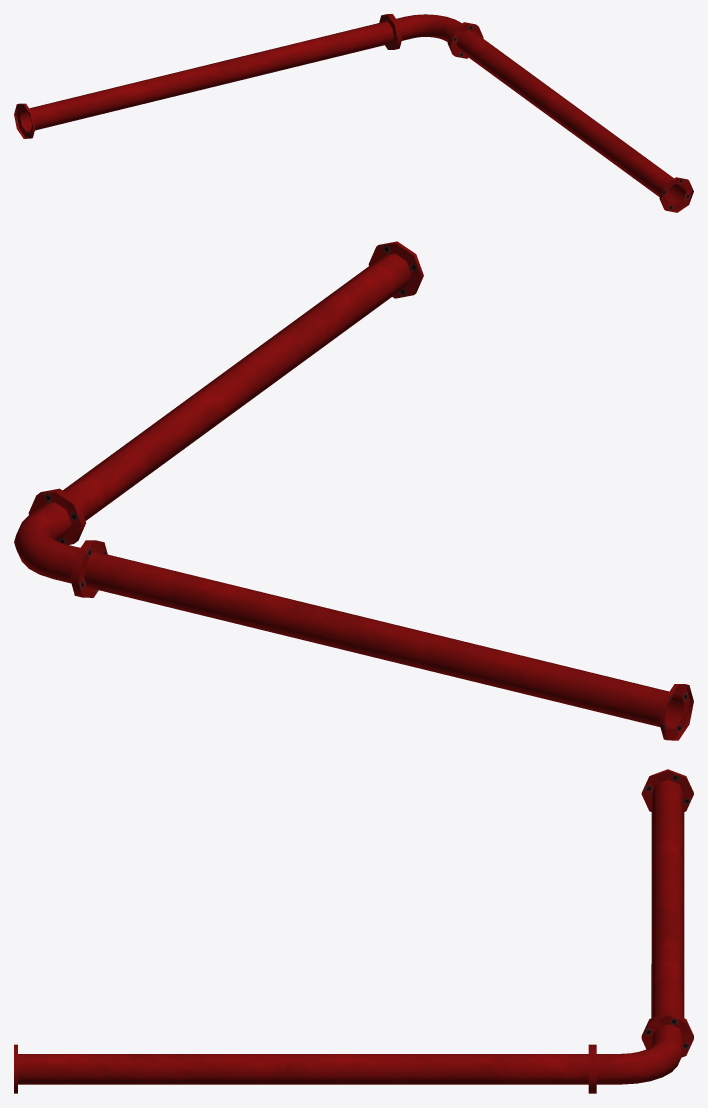
File: PipeSmall_1m_L.FBX
The picture shows the model from 3 angles, top to bottom: view 1: azimuth 30°, elevation 25°; view 2: azimuth 150°, elevation 25°; view 3: azimuth 270°, elevation 25°; orthographic projection. The views are drawn at different scales.
Parts seen in each view (by area): view 1: PipeSmall_1m_L; view 2: PipeSmall_1m_L; view 3: PipeSmall_1m_L.
Boxes of the visible parts, <box> form: PipeSmall_1m_L: <box>14,14,693,212</box>; PipeSmall_1m_L: <box>14,241,693,740</box>; PipeSmall_1m_L: <box>14,769,693,1093</box>.
Size of the model in its own units: 40.94 by 3.15 by 40.94.
